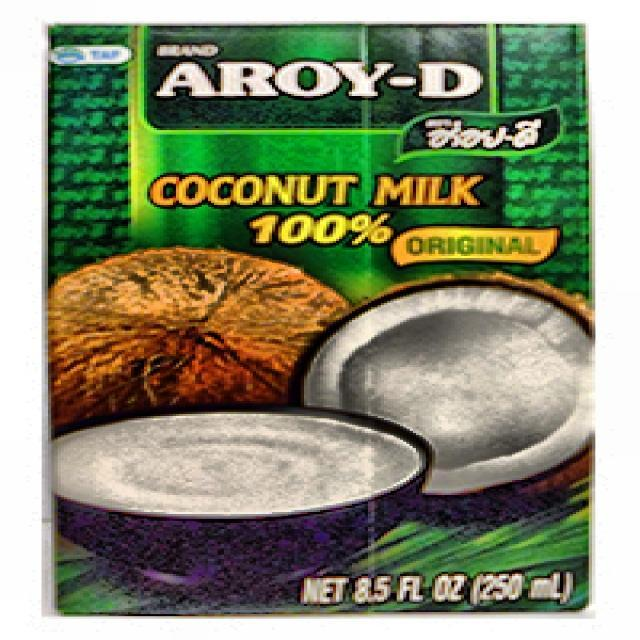cardboard: (45, 22, 592, 614)
